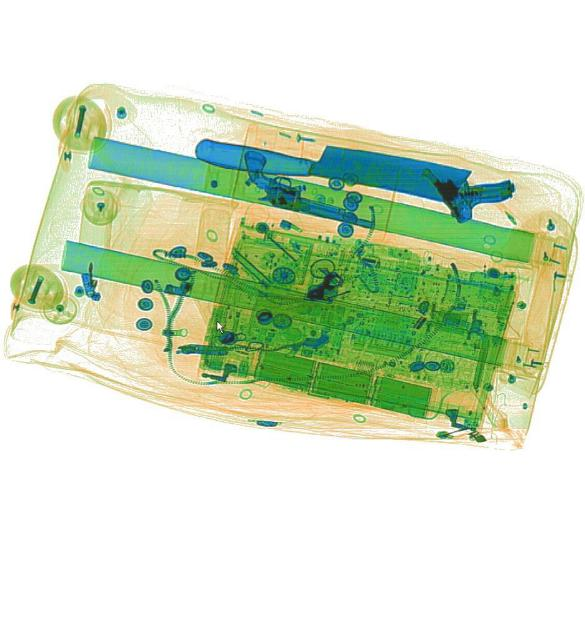Gun: (231, 148, 382, 230), (413, 128, 517, 234)
Knife: (192, 123, 471, 210)
